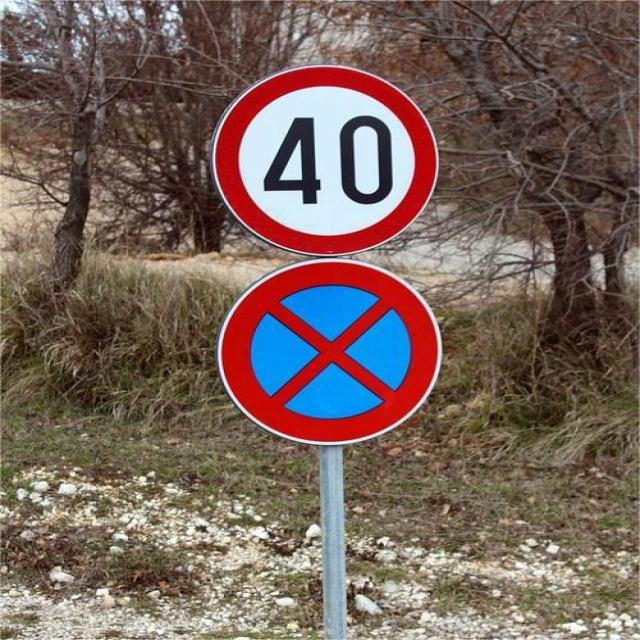speed limit 40: (210, 66, 440, 257)
